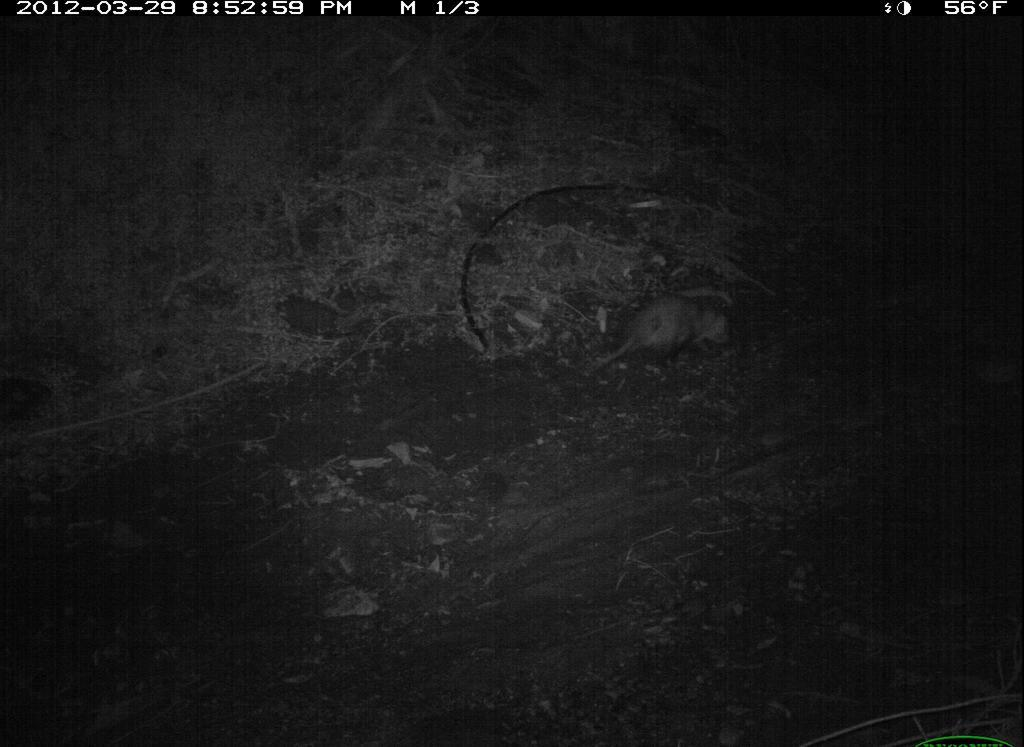opossum: (573, 291, 739, 385)
